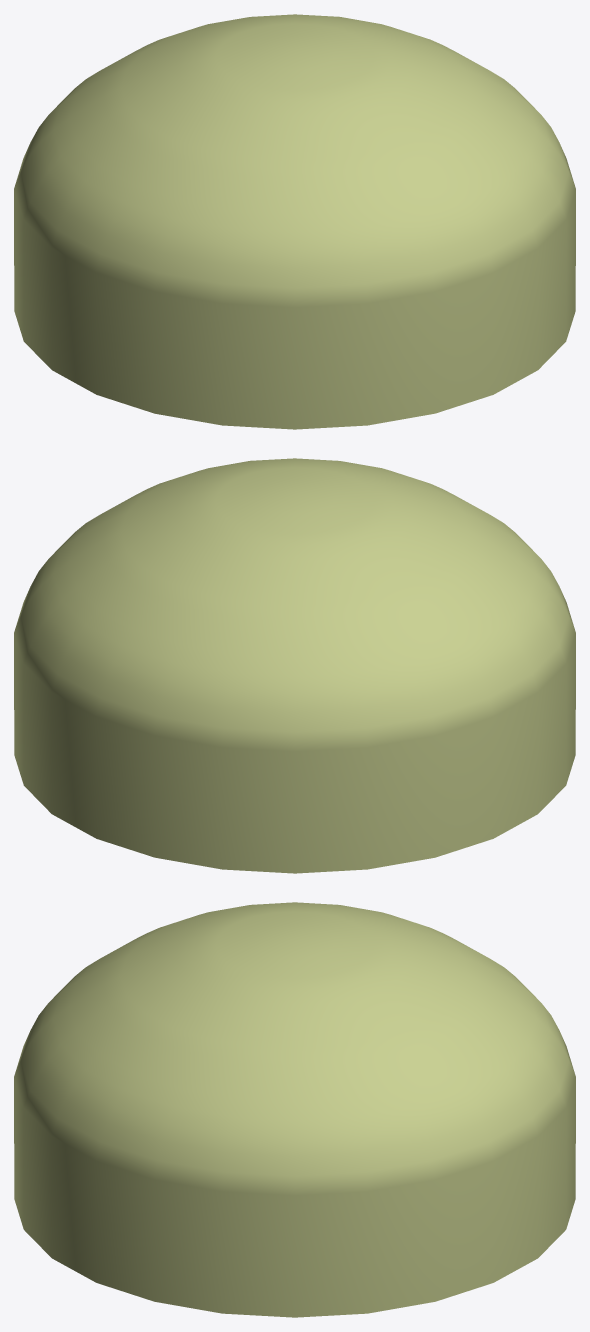
Rendered from PhlebodiumAureum.glb.
3 renders of one model, top to bottom at view 1: azimuth 30°, elevation 25°; view 2: azimuth 150°, elevation 25°; view 3: azimuth 270°, elevation 25°, orthographic.
Parts seen in each view (by area): view 1: Cabbage_Palm_Fern__Schematic_LOD3; view 2: Cabbage_Palm_Fern__Schematic_LOD3; view 3: Cabbage_Palm_Fern__Schematic_LOD3.
Part boxes in pixels (bbox=[...]): Cabbage_Palm_Fern__Schematic_LOD3: bbox=[14, 14, 575, 429]; Cabbage_Palm_Fern__Schematic_LOD3: bbox=[14, 458, 575, 873]; Cabbage_Palm_Fern__Schematic_LOD3: bbox=[14, 902, 575, 1317].
Bounding box in the file's own units: 1.84 × 0.94 × 1.84.
